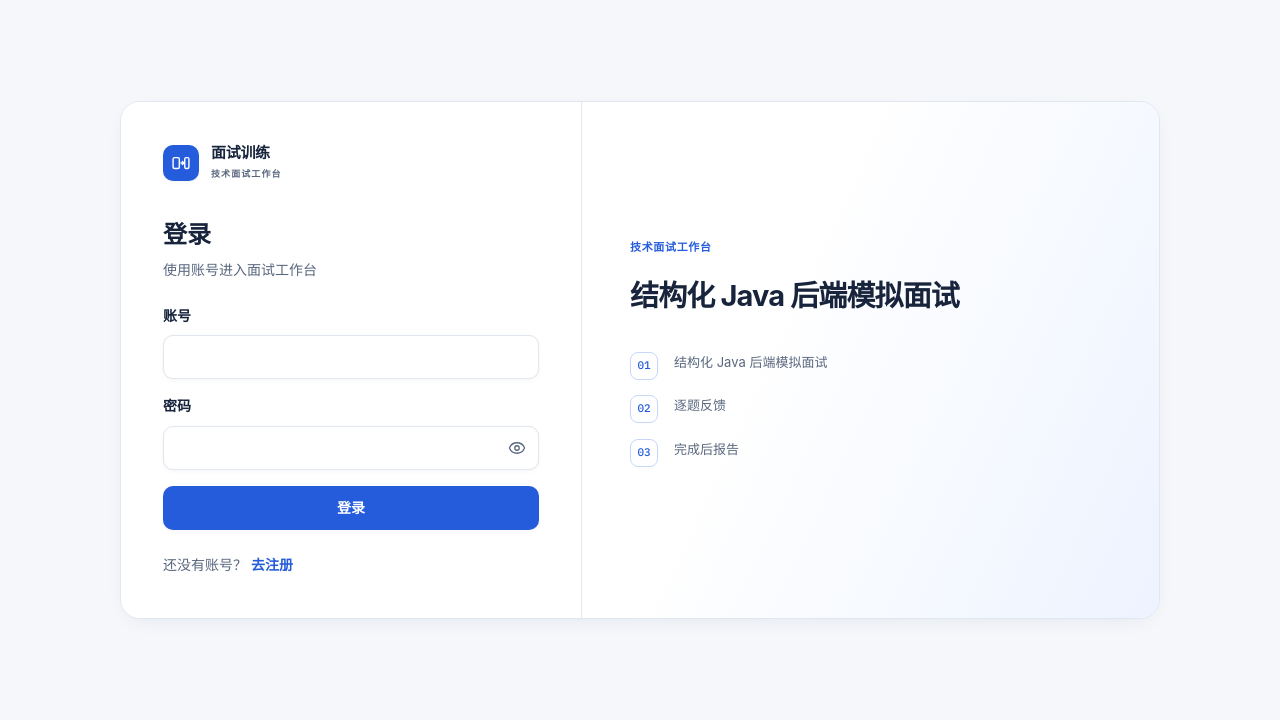
Scenario: LoginView › keeps fields and shows the backend message on login 400
Type "alice" into the field with id "login-account" at [351, 357], box [163, 335, 539, 379]
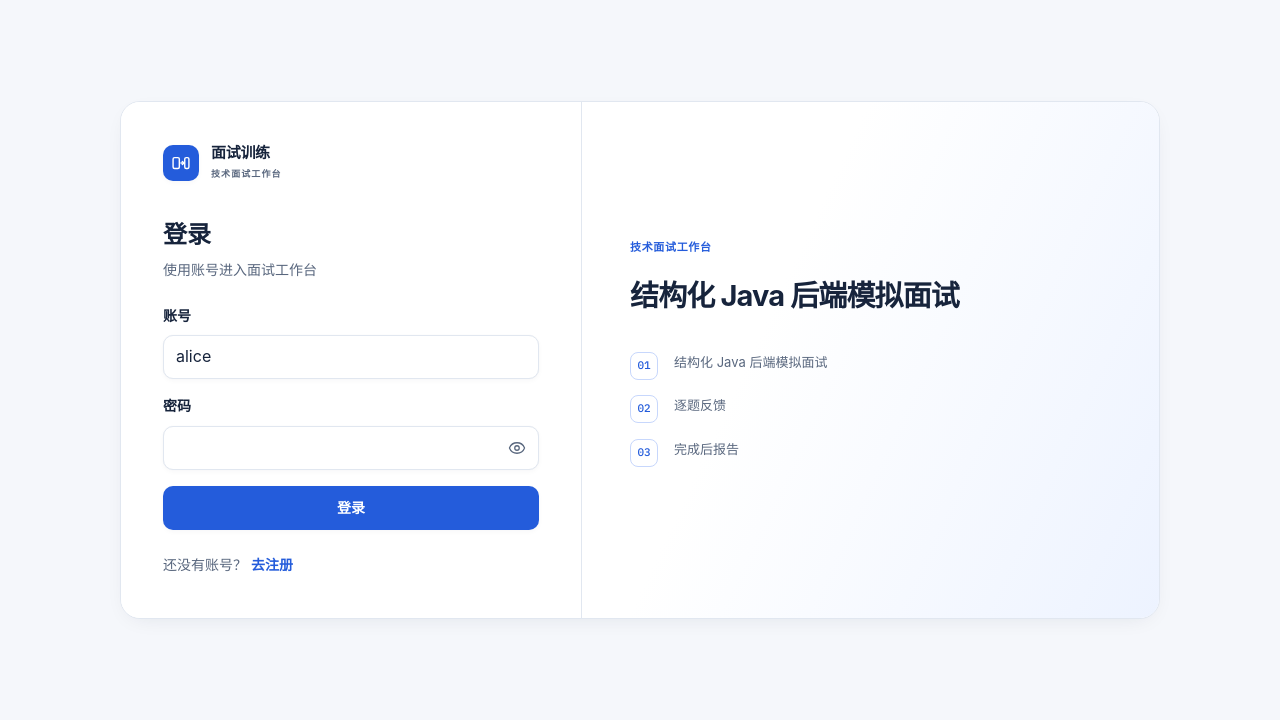
Type "password1" into the password field with id "login-password" at [351, 448], box [163, 426, 539, 470]
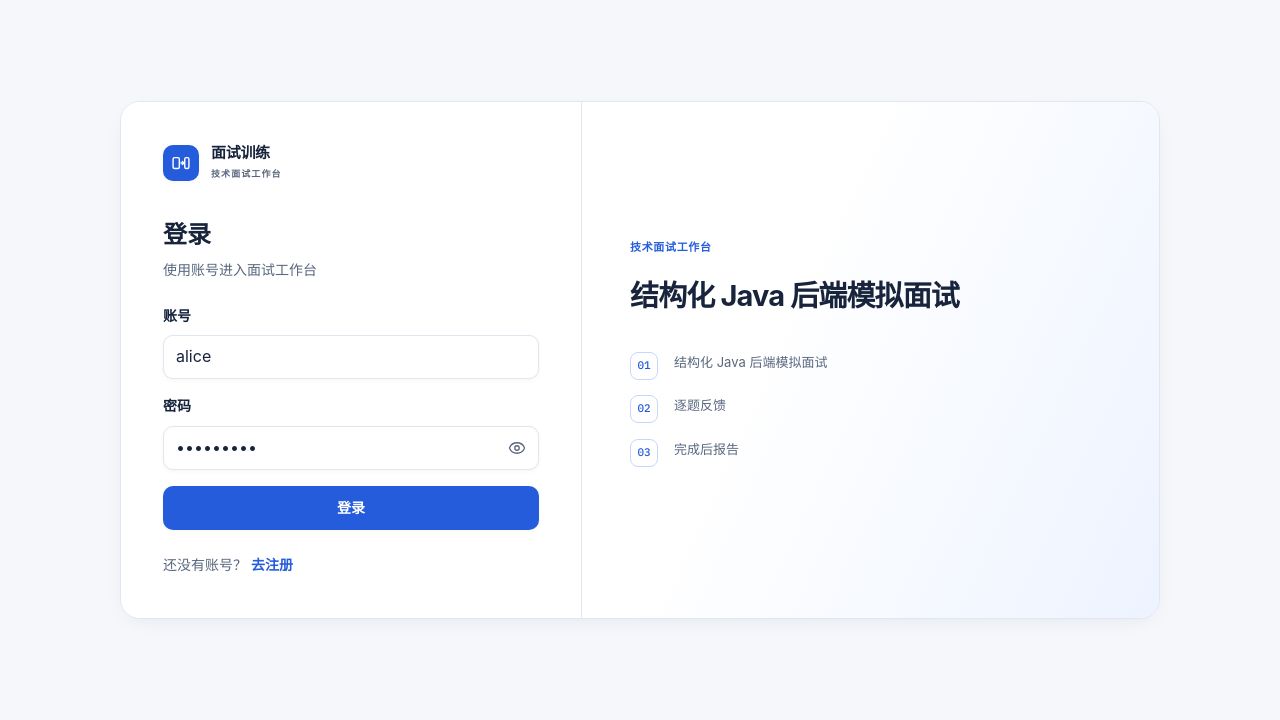
Submit the form, box [163, 305, 539, 530]
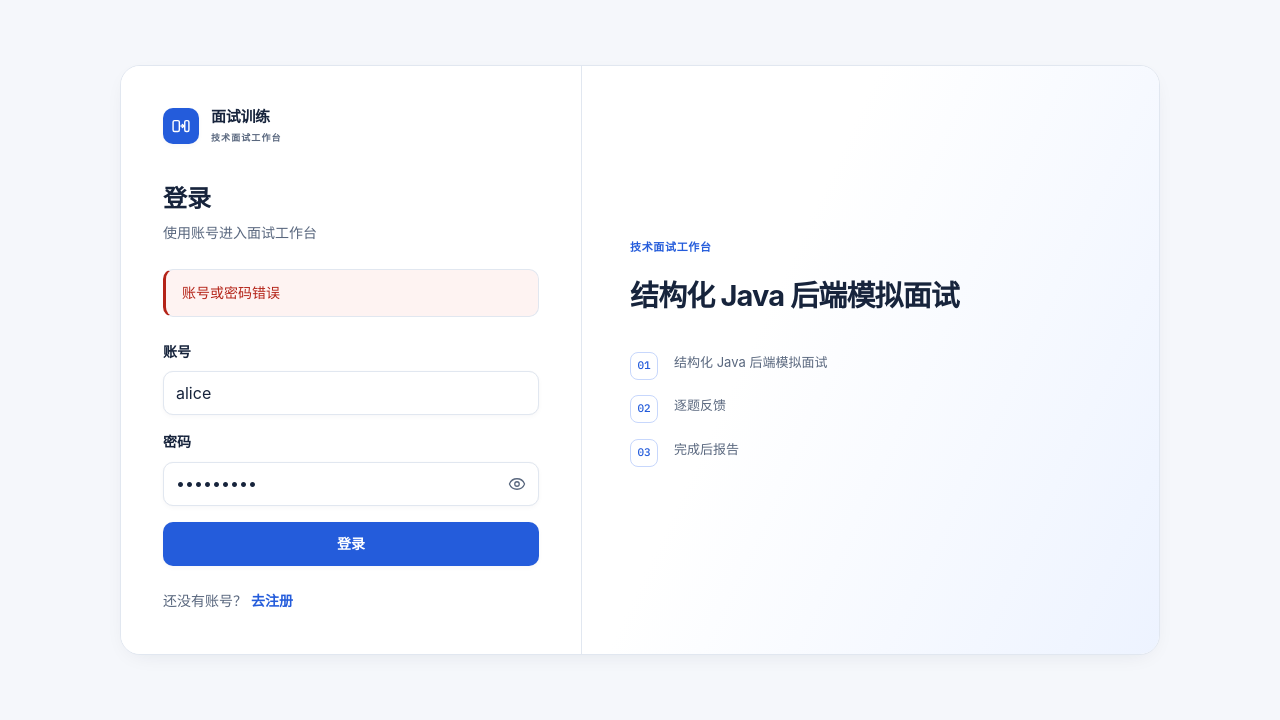
Expected: the message "账号或密码错误" is shown, [163, 269, 539, 317]
